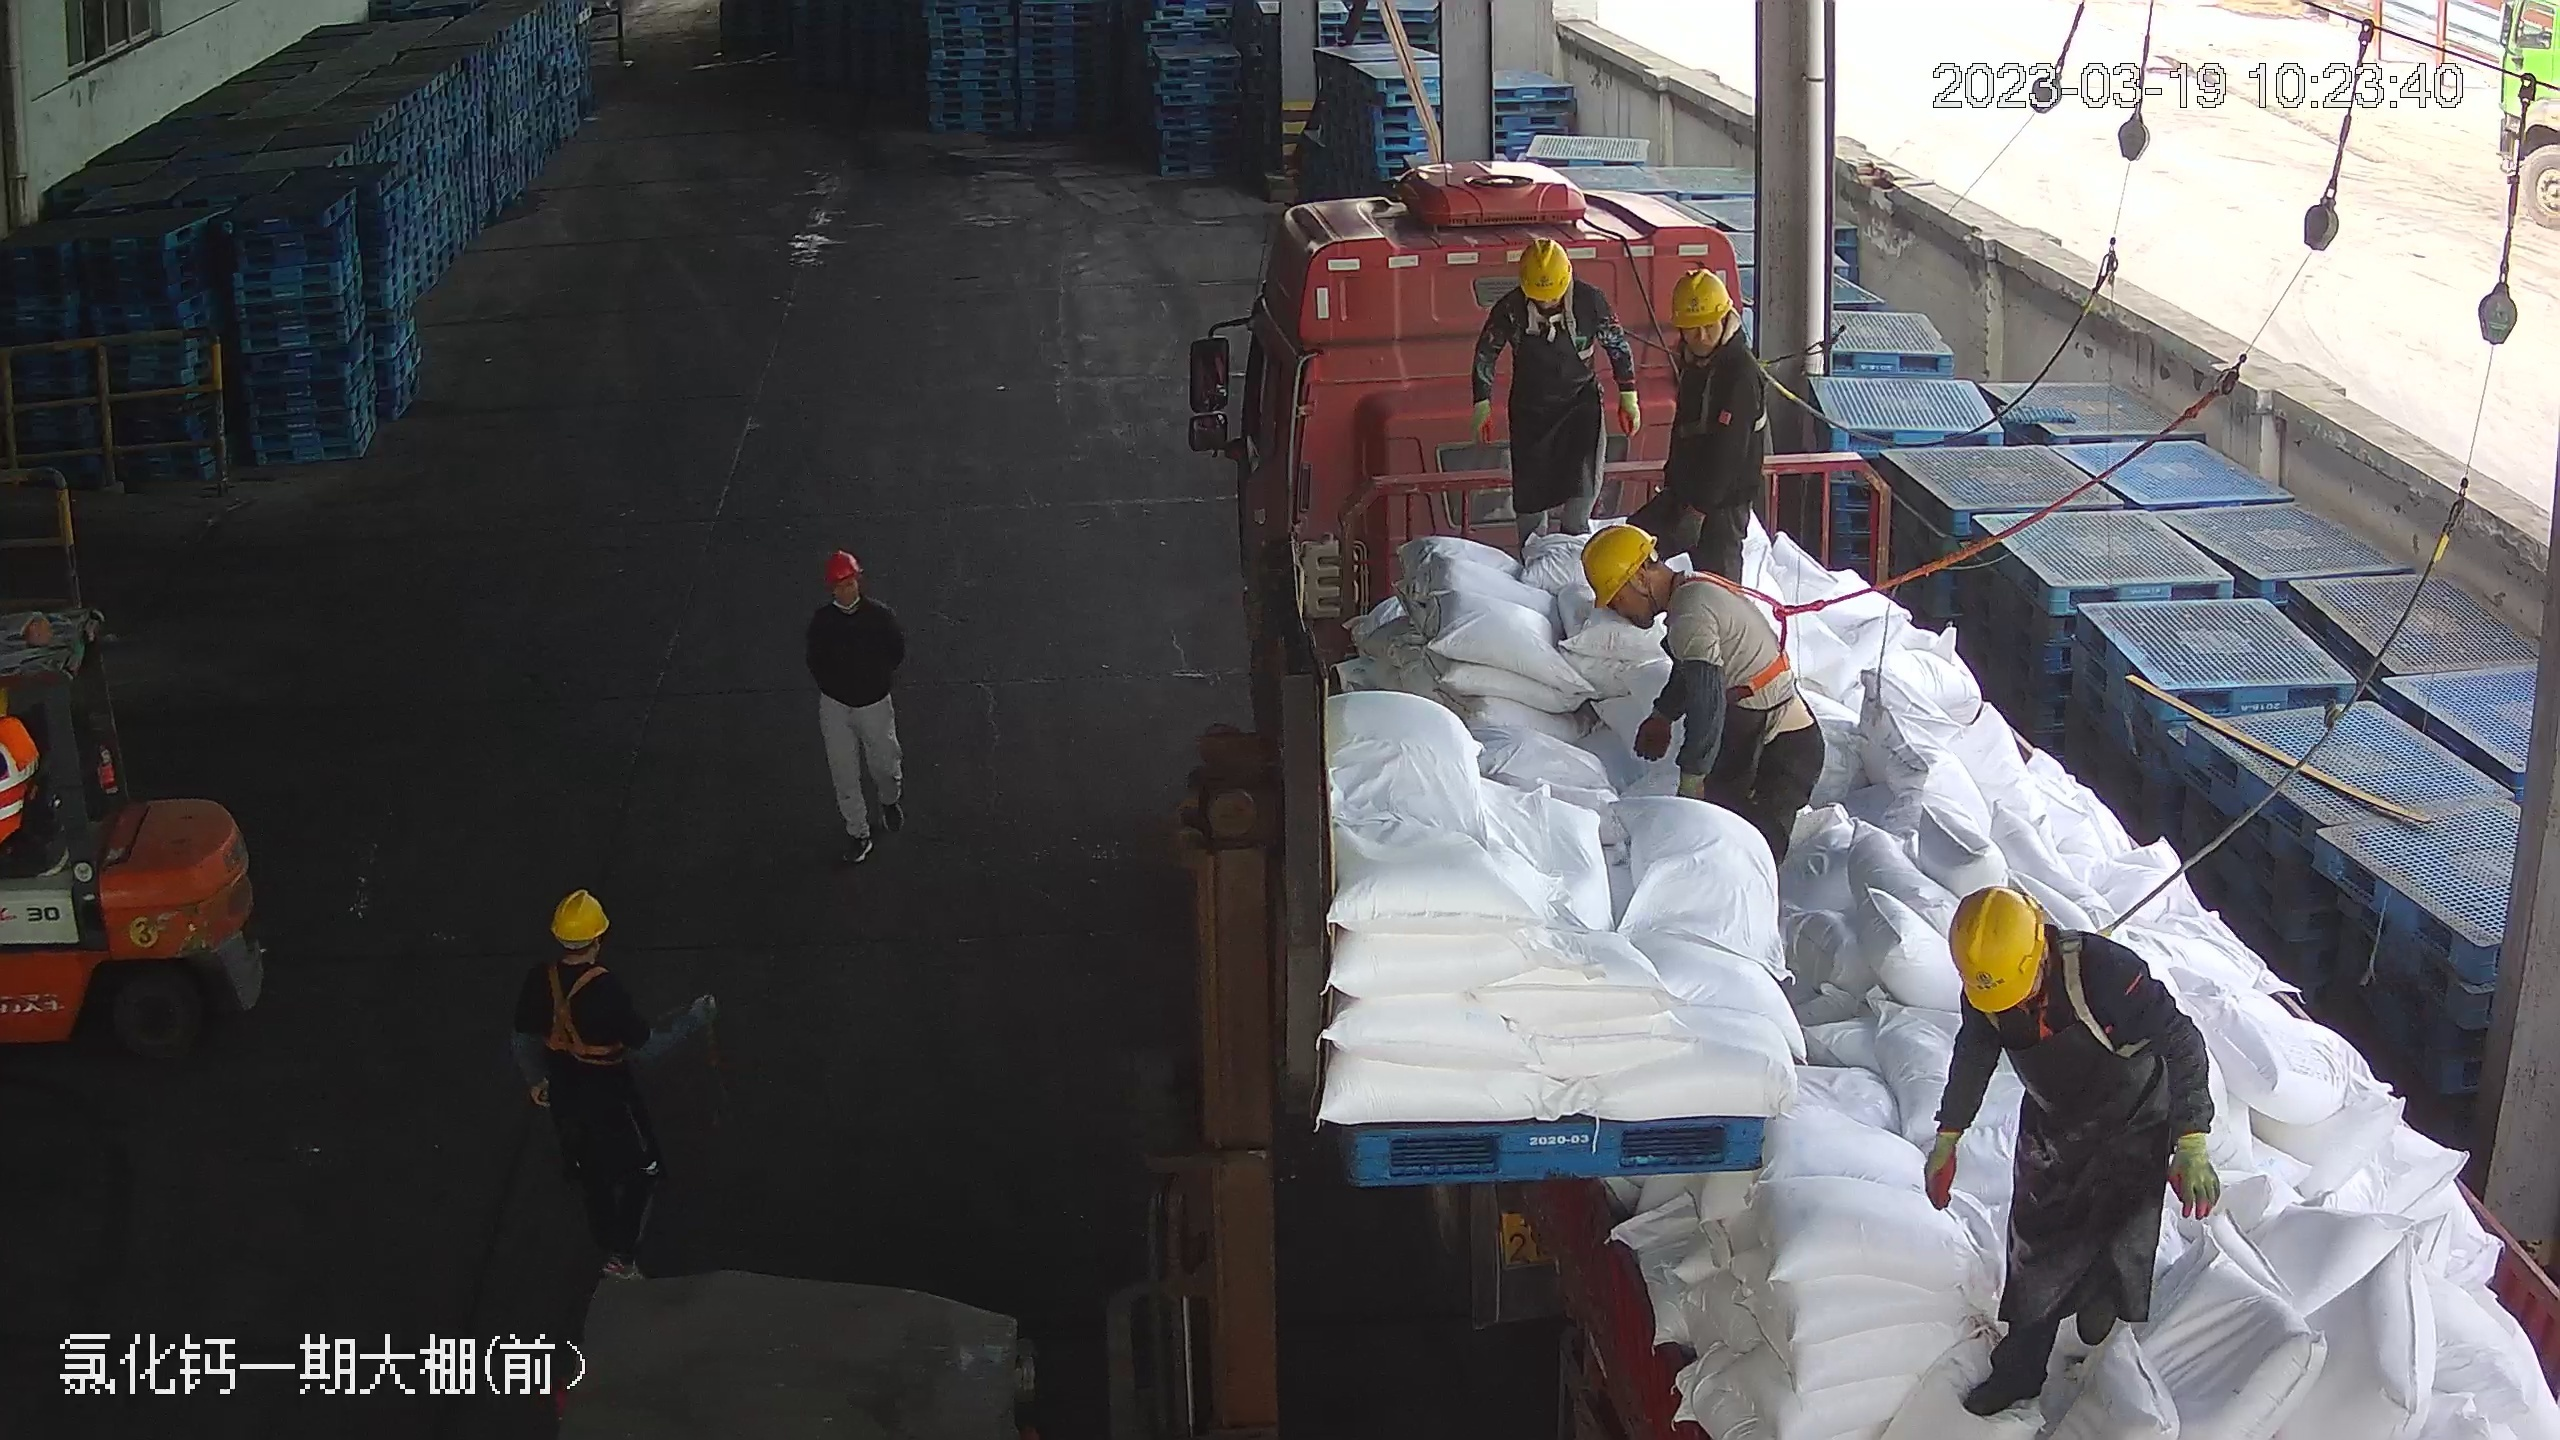belt: (1670, 567, 1821, 698), (2014, 921, 2131, 1052), (533, 961, 624, 1066), (1679, 332, 1773, 413), (1508, 278, 1587, 340)
head: (1938, 875, 2158, 1050), (1578, 520, 1766, 662), (516, 890, 640, 1022), (1656, 265, 1770, 400), (1481, 233, 1615, 340), (805, 549, 898, 636), (1, 675, 32, 765)
helmet: (1939, 880, 2142, 1049), (1946, 881, 2047, 1011), (1579, 519, 1659, 612), (1665, 265, 1735, 326), (1517, 233, 1575, 299), (547, 888, 611, 940), (818, 547, 862, 585)
people: (1921, 876, 2216, 1421), (1581, 527, 1827, 886), (510, 884, 689, 1328), (1470, 233, 1629, 555), (1639, 263, 1773, 584), (801, 547, 911, 863), (1, 685, 41, 905)
truck: (1236, 178, 2473, 1434)
